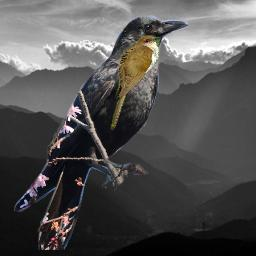Crow: (14, 14, 188, 250)
Cuckoo: (110, 35, 161, 130)
